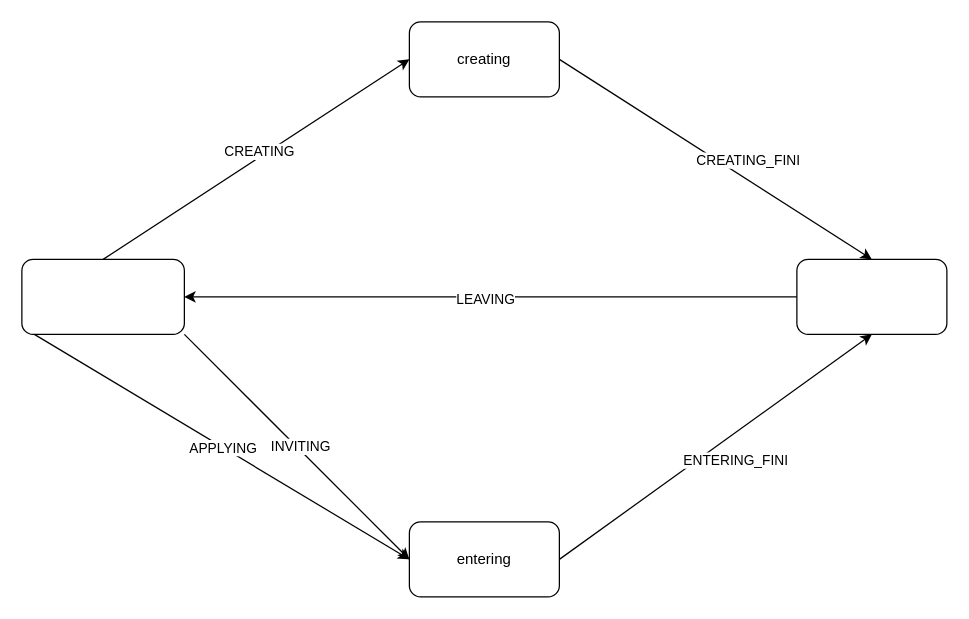
Image size: 969x619. Some labels were removed from this diagram. Each missing label, with the box of its shape:
independing: (21, 258, 184, 334)
team: (796, 258, 947, 334)
